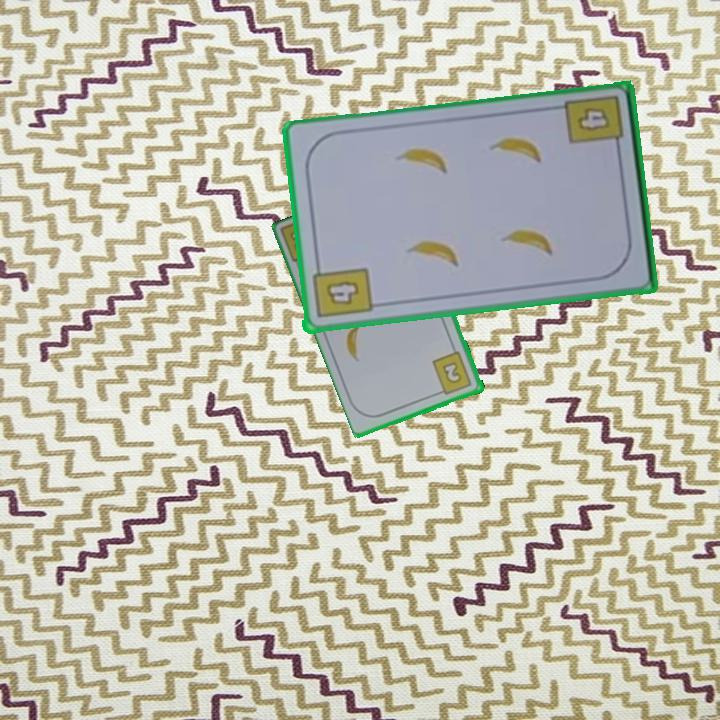2b: (429, 348, 475, 398)
4b: (308, 259, 374, 321), (573, 104, 613, 135)
